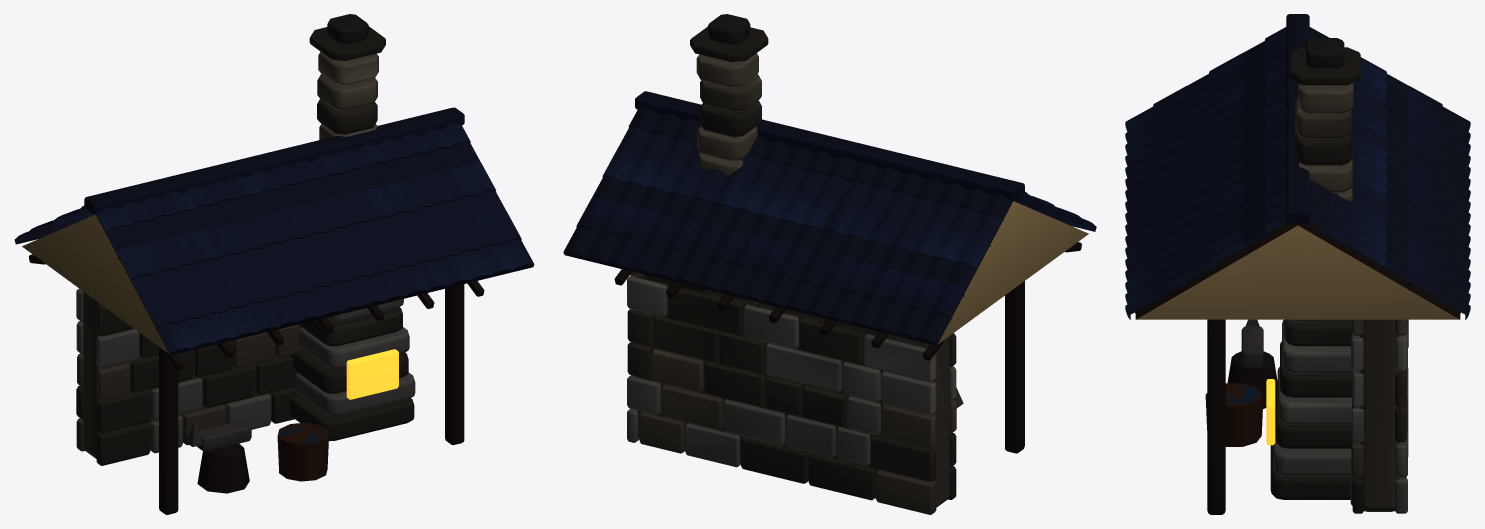
The model's file is Forja2.fbx.
The picture shows the model from 3 angles, left to right: view 1: azimuth 30°, elevation 25°; view 2: azimuth 150°, elevation 25°; view 3: azimuth 270°, elevation 25°; orthographic projection. The views are drawn at different scales.
Visible parts, largest first — view 1: Forja2; view 2: Forja2; view 3: Forja2.
Part boxes in pixels (x1,y1,x2,y2): Forja2: [14, 14, 534, 514]; Forja2: [563, 14, 1096, 514]; Forja2: [1125, 14, 1470, 514].
Bounding box in the file's own units: 5.19 × 5.32 × 3.82.
